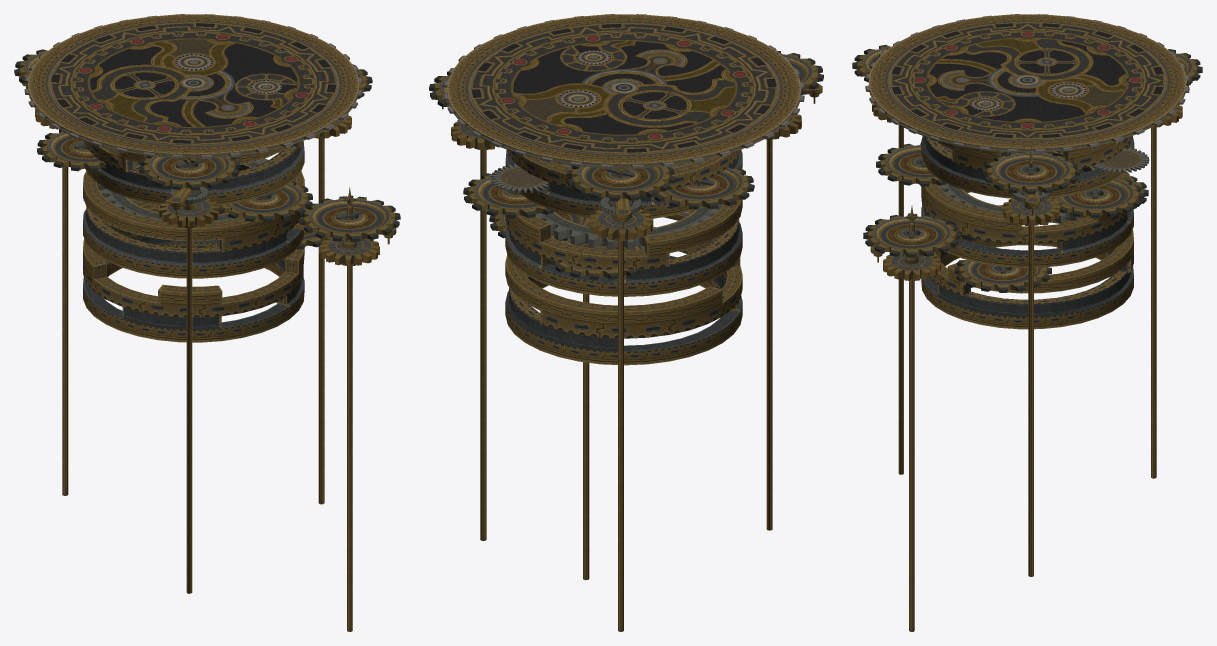
The picture shows the model from 3 angles, left to right: view 1: azimuth 30°, elevation 25°; view 2: azimuth 150°, elevation 25°; view 3: azimuth 270°, elevation 25°; orthographic projection. The views are drawn at different scales.
Visible parts, largest first — view 1: d2az-boss3.002, d2az-boss3.012, d2az-boss3.003, d2az-boss3.005, d2az-boss3.010, d2az-boss3.011, d2az-boss3.009, d2az-boss3.007, d2az-boss3.006, d2az-boss3.008; view 2: d2az-boss3.002, d2az-boss3.012, d2az-boss3.003, d2az-boss3.005, d2az-boss3.010, d2az-boss3.011, d2az-boss3.009, d2az-boss3.007, d2az-boss3.006, d2az-boss3.008; view 3: d2az-boss3.002, d2az-boss3.012, d2az-boss3.003, d2az-boss3.005, d2az-boss3.010, d2az-boss3.011, d2az-boss3.009, d2az-boss3.007, d2az-boss3.006, d2az-boss3.008.
Part boxes in pixels (x1=…): d2az-boss3.002: x1=25, y1=14, x2=389, y2=342; d2az-boss3.012: x1=14, y1=49, x2=400, y2=631; d2az-boss3.003: x1=51, y1=23, x2=374, y2=235; d2az-boss3.005: x1=52, y1=23, x2=372, y2=263; d2az-boss3.010: x1=51, y1=23, x2=336, y2=143; d2az-boss3.011: x1=19, y1=51, x2=396, y2=266; d2az-boss3.009: x1=24, y1=14, x2=362, y2=158; d2az-boss3.007: x1=106, y1=41, x2=280, y2=126; d2az-boss3.006: x1=24, y1=54, x2=362, y2=158; d2az-boss3.008: x1=168, y1=39, x2=215, y2=57; d2az-boss3.002: x1=439, y1=14, x2=812, y2=365; d2az-boss3.012: x1=429, y1=50, x2=823, y2=631; d2az-boss3.003: x1=471, y1=23, x2=776, y2=250; d2az-boss3.005: x1=461, y1=24, x2=792, y2=238; d2az-boss3.010: x1=471, y1=24, x2=776, y2=152; d2az-boss3.011: x1=438, y1=53, x2=822, y2=270; d2az-boss3.009: x1=443, y1=14, x2=804, y2=168; d2az-boss3.007: x1=520, y1=41, x2=734, y2=124; d2az-boss3.006: x1=443, y1=50, x2=804, y2=168; d2az-boss3.008: x1=523, y1=96, x2=576, y2=120; d2az-boss3.002: x1=864, y1=14, x2=1191, y2=329; d2az-boss3.012: x1=852, y1=45, x2=1202, y2=631; d2az-boss3.003: x1=888, y1=22, x2=1164, y2=280; d2az-boss3.005: x1=889, y1=23, x2=1163, y2=278; d2az-boss3.010: x1=892, y1=23, x2=1163, y2=137; d2az-boss3.011: x1=861, y1=46, x2=1193, y2=284; d2az-boss3.009: x1=865, y1=14, x2=1189, y2=152; d2az-boss3.007: x1=937, y1=39, x2=1125, y2=111; d2az-boss3.006: x1=865, y1=75, x2=1189, y2=152; d2az-boss3.008: x1=1074, y1=85, x2=1122, y2=106.
Bounding box in the file's own units: 59.76 × 94.02 × 58.92.
Materials: 11 (11 with a texture image).
